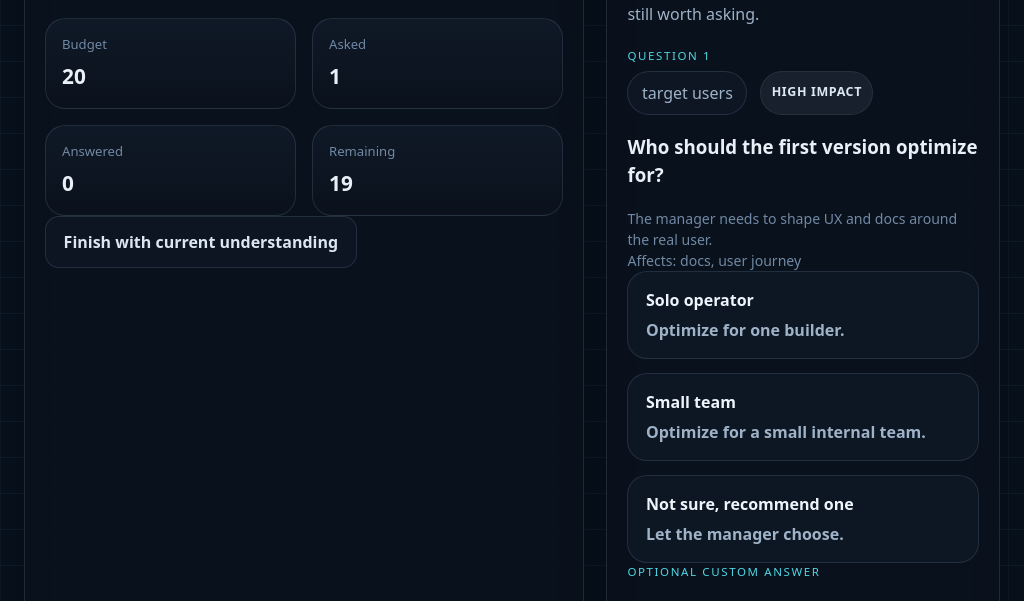
Test: InterviewPage › requests the next batch after the current batch is exhausted
The width and height of the screenshot is (1024, 601).
(page scrolled)
Expected: the heading "Who should the first version optimize for?" is shown, [627,133,979,190]
What coordinates should you click on to do the following:
click the text "Solo operator"
I would click on:
 (700, 300)
Its box is [646,290,754,312].
(page scrolled)
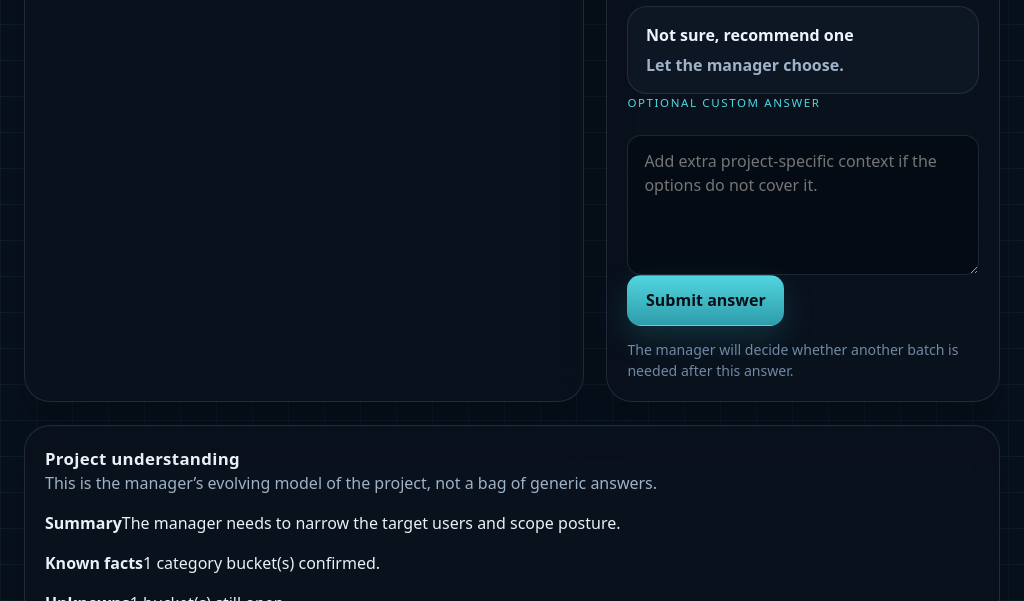
What coordinates should you click on to do the following:
click the button "Submit answer"
I would click on:
 (706, 300)
Its box is [627,274,784,326].
(page scrolled)
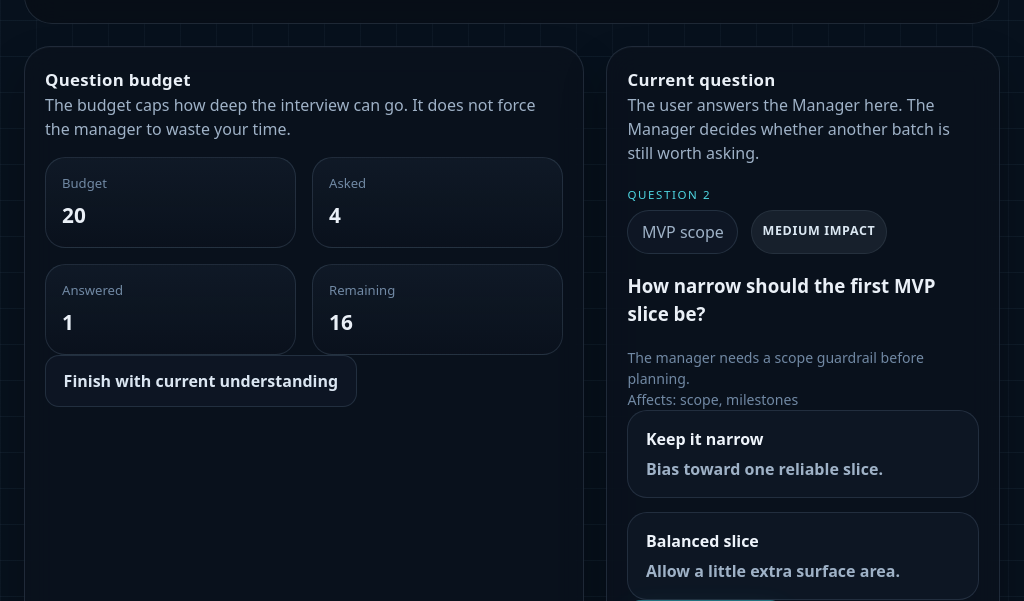
Expected: the heading "How narrow should the first MVP slice be?" is shown, [627,272,979,328]
